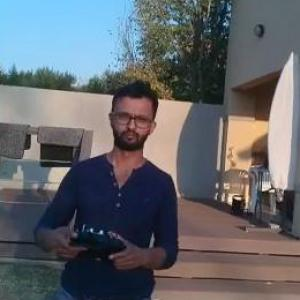follow: (26, 69, 183, 299)
